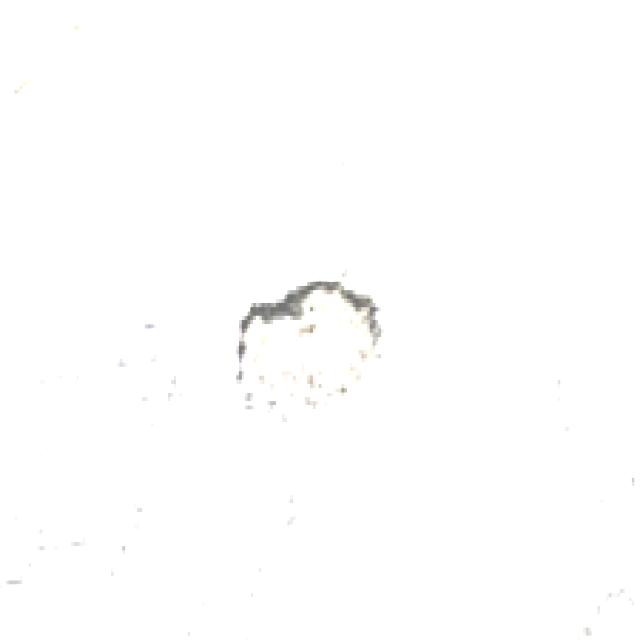Pothole: (226, 269, 392, 425)
